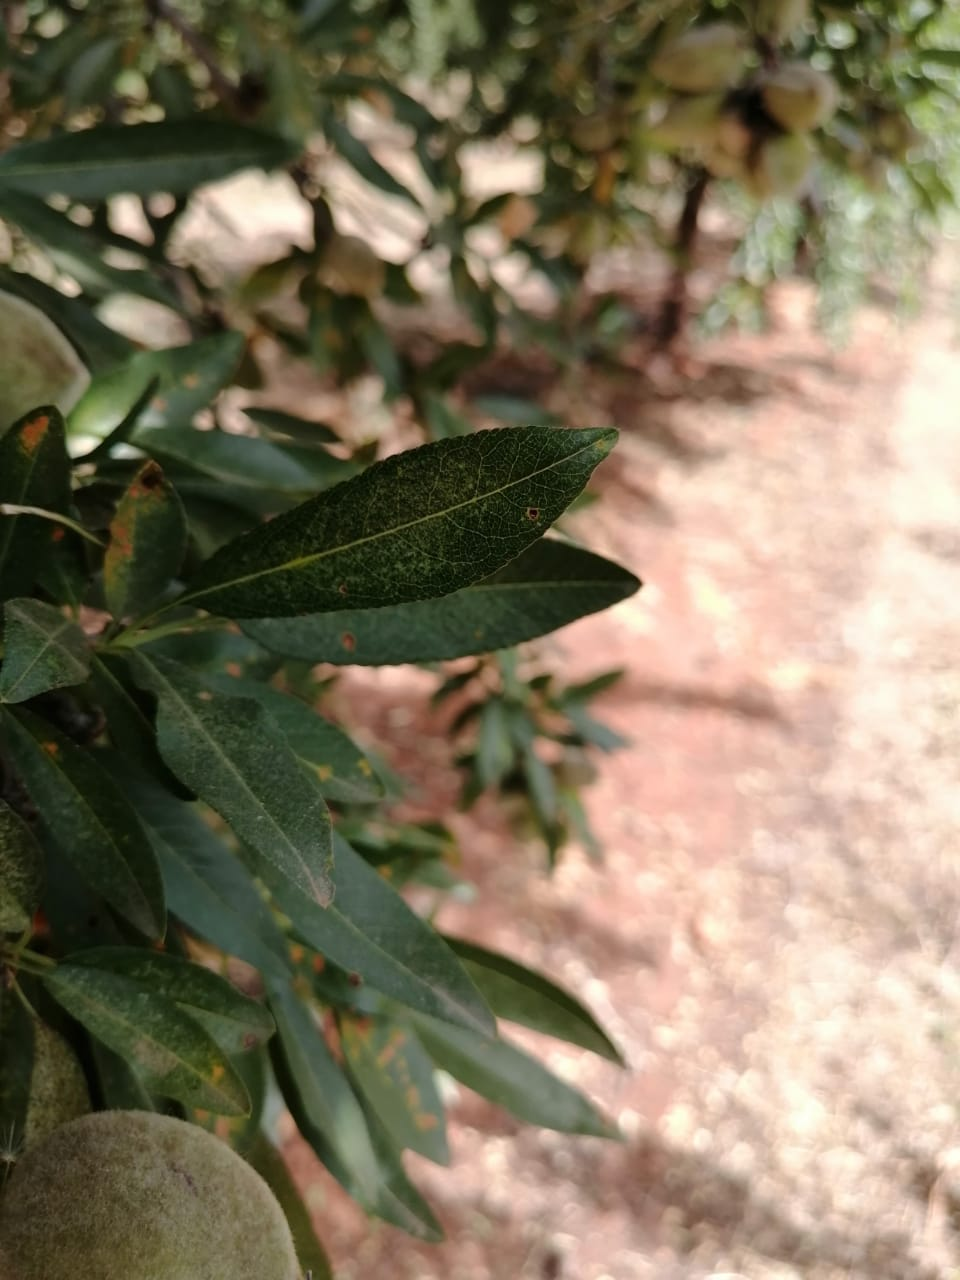acariens: (179, 423, 621, 619), (152, 681, 338, 913), (37, 961, 253, 1121)
